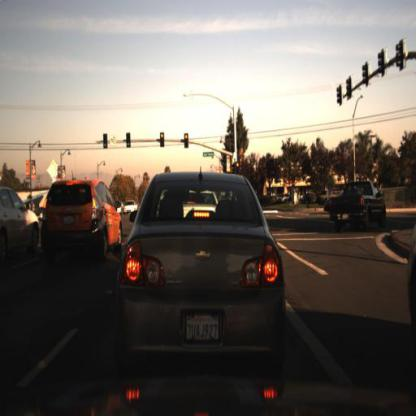car: (120, 173, 285, 370), (40, 175, 121, 269), (1, 177, 42, 269), (122, 198, 139, 218)
trafficLight-GreenLeft: (103, 130, 111, 151), (125, 131, 133, 152)
trafficLight-Red: (160, 130, 168, 149), (183, 133, 191, 152), (234, 161, 241, 179)
